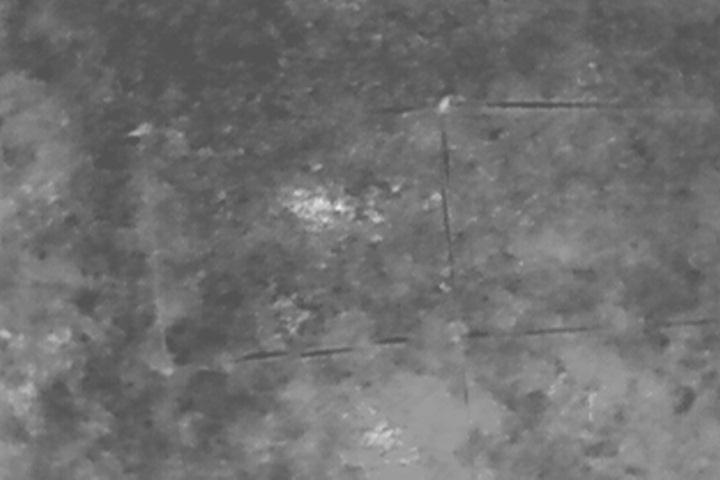landmine: (295, 187, 346, 223)
